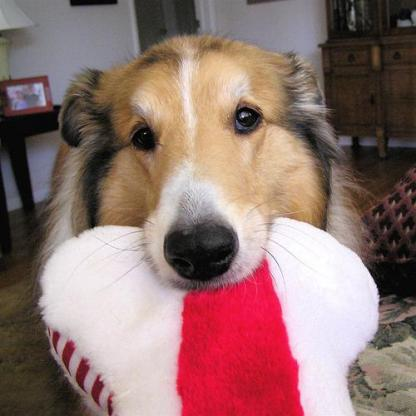collie: (34, 34, 366, 414)
